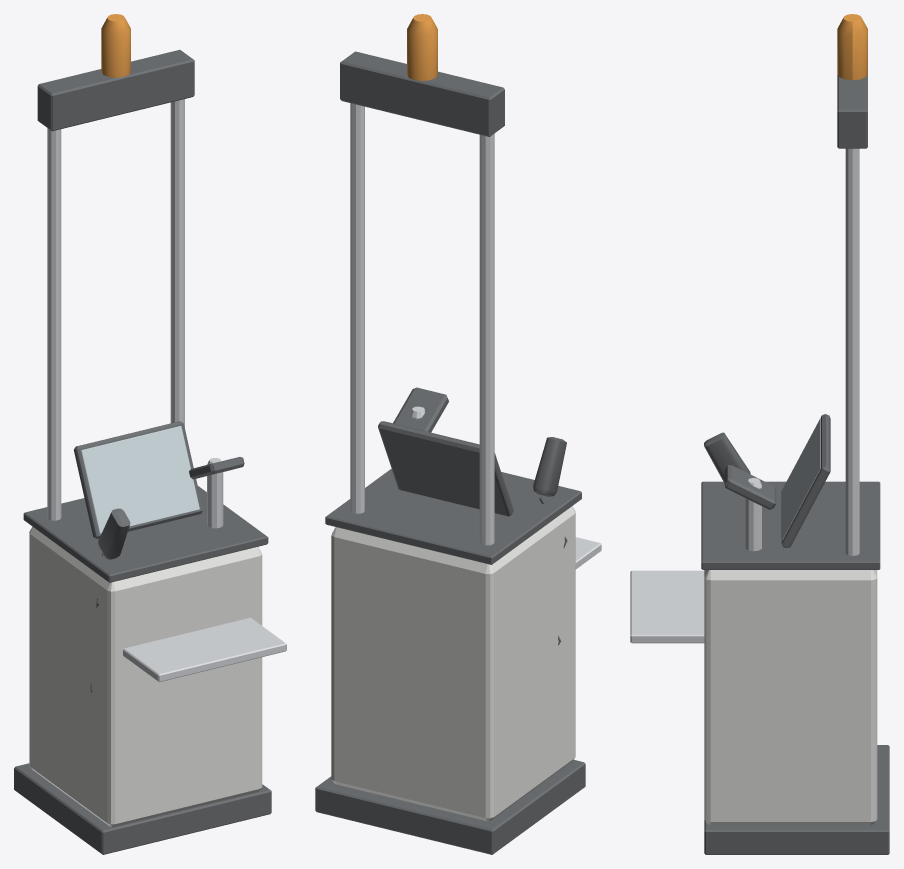
The model's file is self-checkout-with-bulky-scanner.glb.
The picture shows the model from 3 angles, left to right: view 1: azimuth 30°, elevation 25°; view 2: azimuth 150°, elevation 25°; view 3: azimuth 270°, elevation 25°; orthographic projection. The views are drawn at different scales.
Visible parts, largest first — view 1: self-checkout-bulky-scanner; view 2: self-checkout-bulky-scanner; view 3: self-checkout-bulky-scanner.
Boxes of the visible parts, x1,y1,x2,y2 form: self-checkout-bulky-scanner: (14, 14, 286, 854); self-checkout-bulky-scanner: (315, 14, 601, 854); self-checkout-bulky-scanner: (630, 14, 889, 854).
Bounding box in the file's own units: 0.6601 × 2.84 × 0.84.
